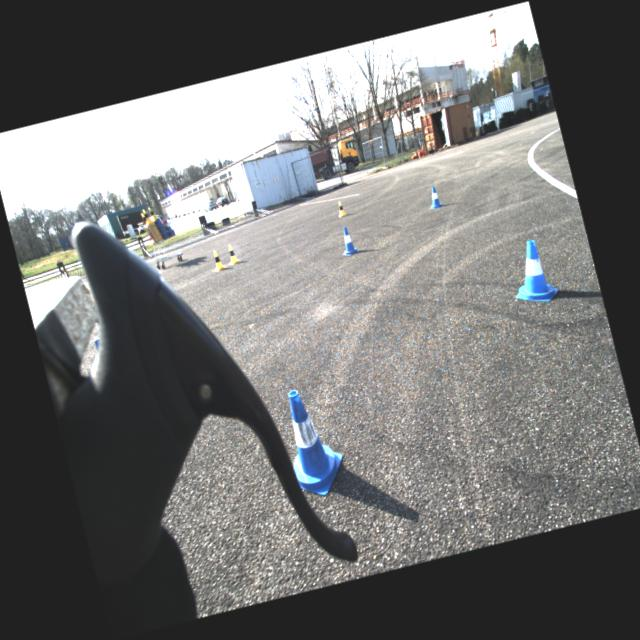blue_cone: (275, 382, 350, 500), (502, 236, 560, 309), (337, 225, 359, 256), (424, 184, 443, 209), (165, 218, 172, 232)
large_orange_cone: (417, 148, 421, 157)
orange_cone: (420, 143, 424, 149)
yellow_cone: (210, 248, 226, 272), (224, 242, 240, 265), (147, 204, 159, 222), (334, 200, 346, 217), (142, 207, 152, 223), (140, 212, 148, 225)
